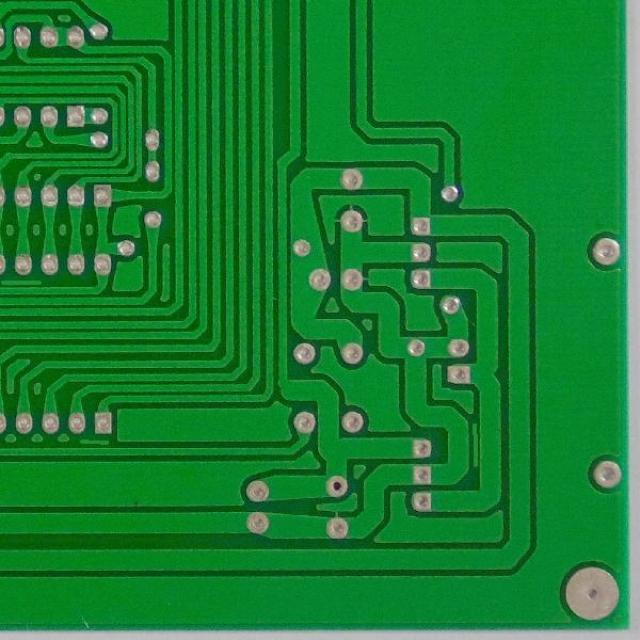spurious_copper: (464, 418, 485, 469), (1, 273, 47, 290), (76, 432, 114, 452)
